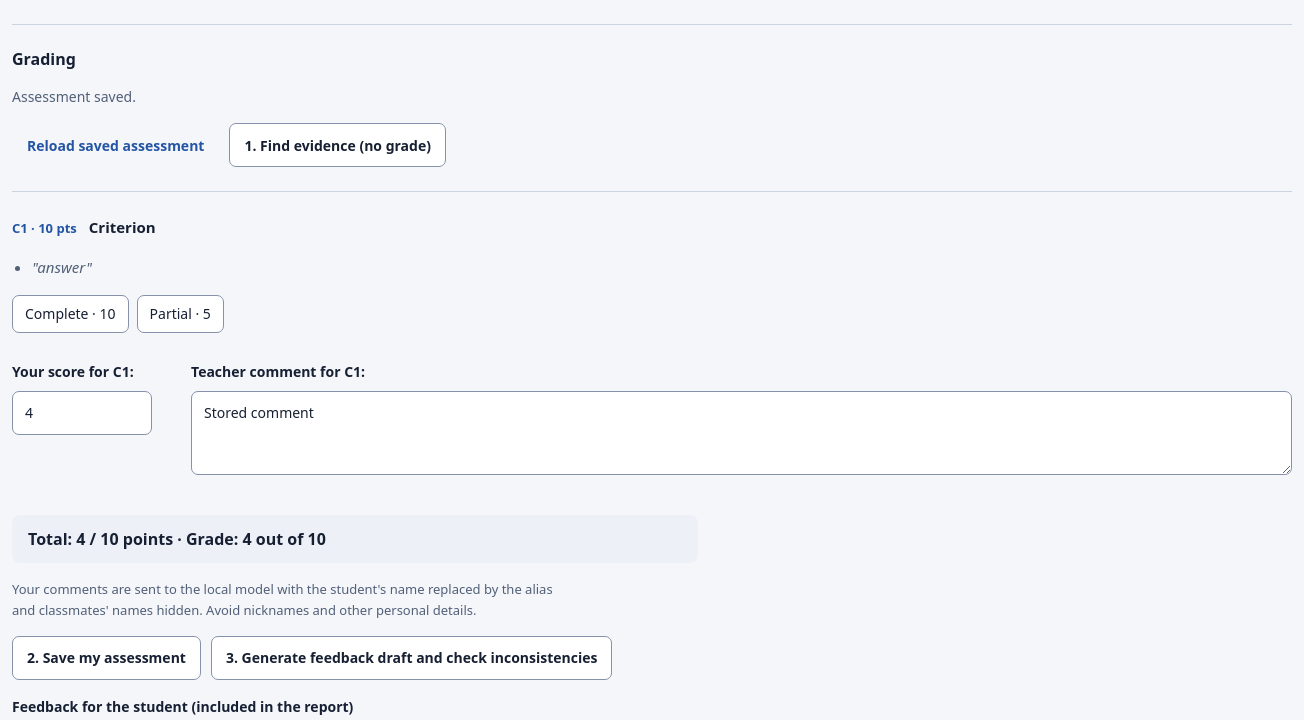
Scenario: saved assessment › disables confirmation and feedback when reloading the saved assessment fails
Click the button "Reload saved assessment" at (116, 146), box [12, 124, 219, 168]
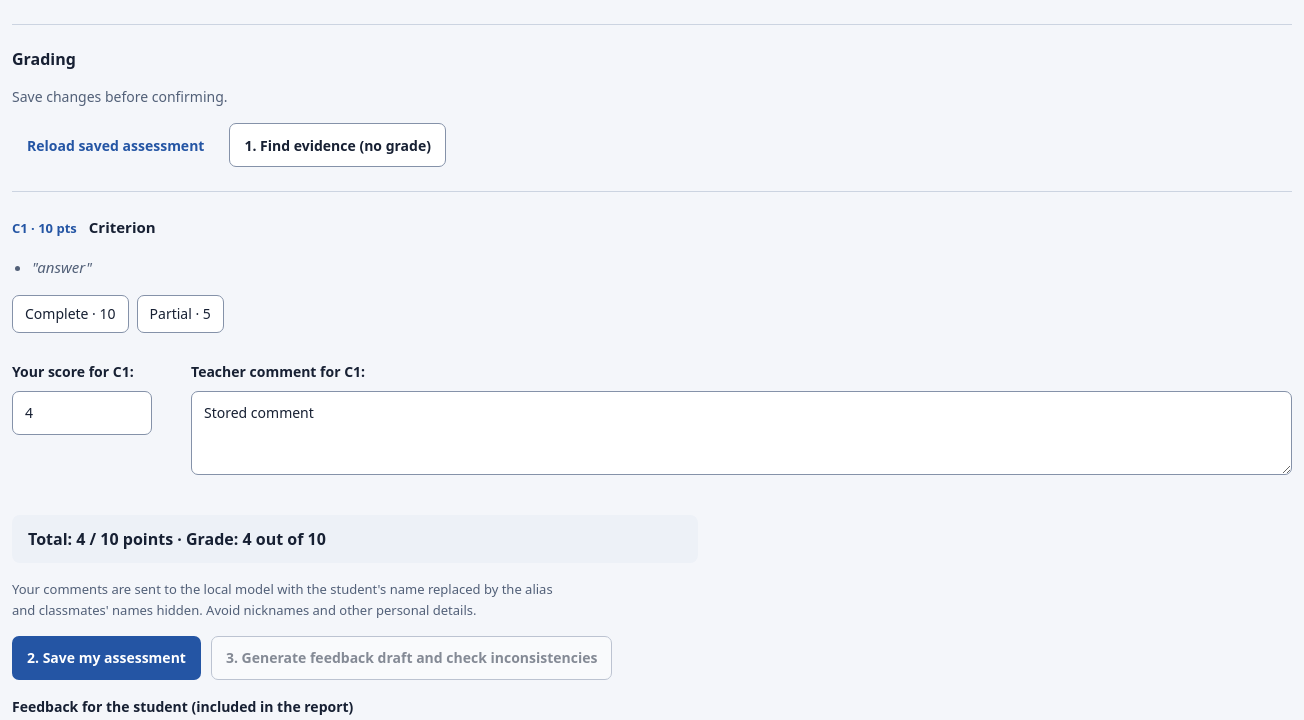
Expected: the button "3. Generate feedback draft and check inconsistencies" is disabled, [211, 636, 612, 680]
